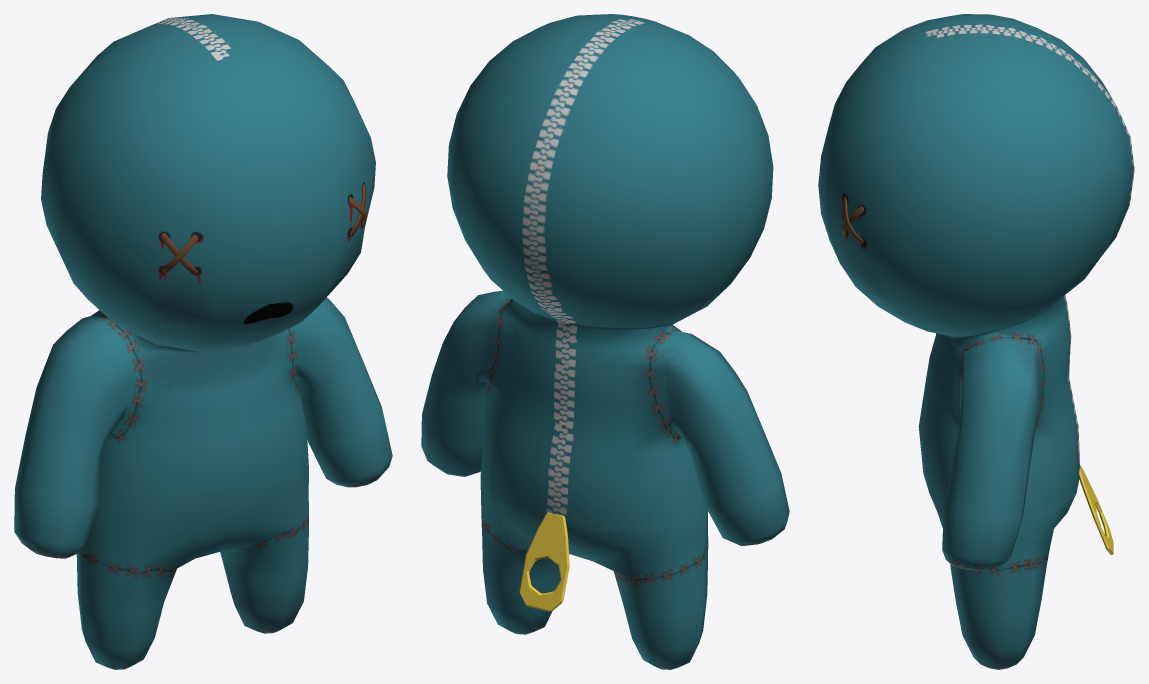
Rendered from RogueLikeCharacterLowPoly.fbx.
3 views of the same model, side by side, from view 1: azimuth 30°, elevation 25°; view 2: azimuth 150°, elevation 25°; view 3: azimuth 270°, elevation 25° (orthographic). The views are drawn at different scales.
Visible parts, largest first — view 1: Character.lp; view 2: Character.lp, Plane; view 3: Character.lp, Plane.
Boxes of the visible parts, x1,y1,x2,y2 form: Character.lp: (14,14,392,669); Character.lp: (421,14,789,669); Plane: (519,512,569,611); Character.lp: (818,14,1134,669); Plane: (1079,464,1113,554).
Bounding box in the file's own units: 114 × 184 × 88.15.
